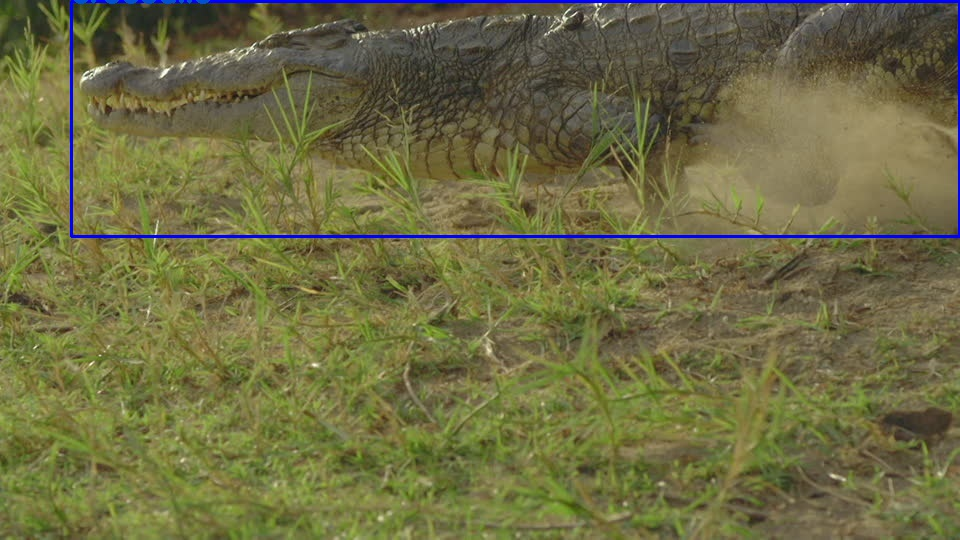crocodile: (70, 0, 958, 235)
